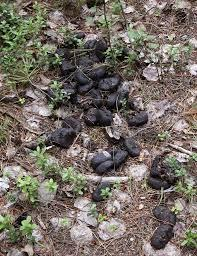Elk: (63, 48, 147, 145)
